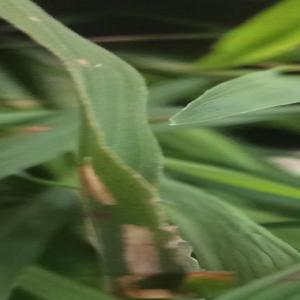Rice_Blast: (109, 209, 168, 282), (82, 154, 123, 205)
